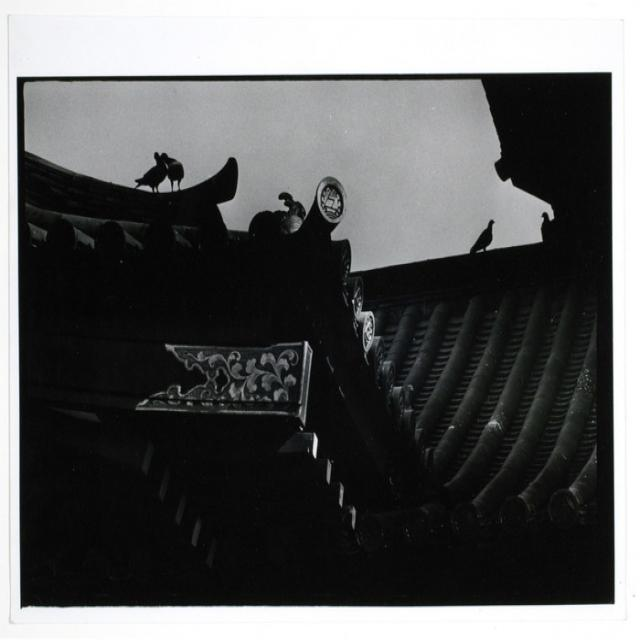bird: (134, 152, 168, 194), (469, 219, 496, 255), (160, 153, 184, 193)
